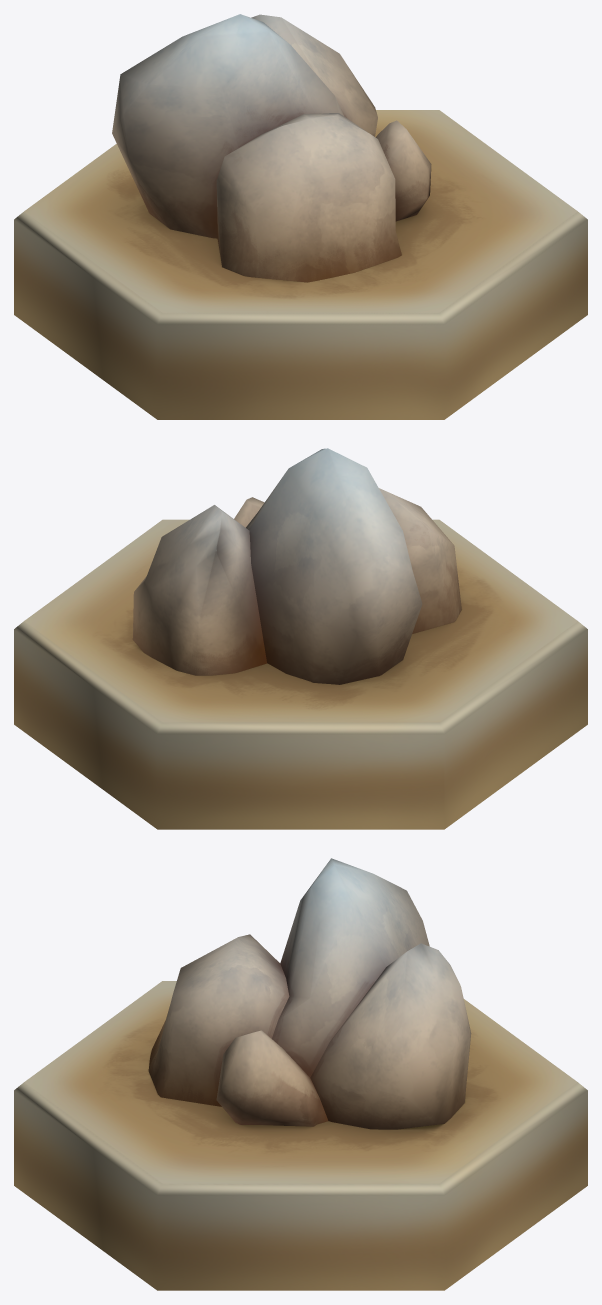
The model's file is rock.fbx.
3 views of the same model, one above another, from view 1: azimuth 30°, elevation 25°; view 2: azimuth 150°, elevation 25°; view 3: azimuth 270°, elevation 25° (orthographic).
Parts seen in each view (by area): view 1: rocks; view 2: rocks; view 3: rocks.
Boxes of the visible parts, x1=… form: rocks: x1=14, y1=14, x2=587, y2=419; rocks: x1=14, y1=448, x2=587, y2=829; rocks: x1=14, y1=858, x2=587, y2=1290.
Bounding box in the file's own units: 83.34 × 55.36 × 96.24.
Materials: 1 (1 with a texture image).
